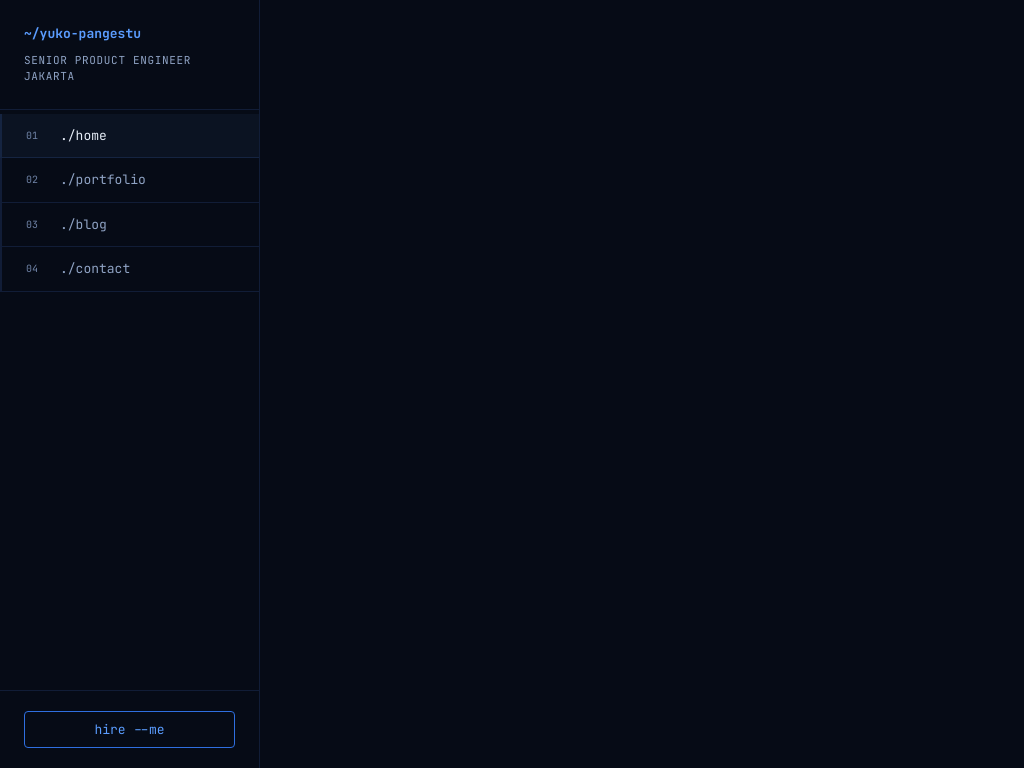
Test: SidebarComponent › opens the contact ID card popup when ./contact is clicked
The width and height of the screenshot is (1024, 768).
Click the text "./contact" at (95, 268), box [60,260,130,277]
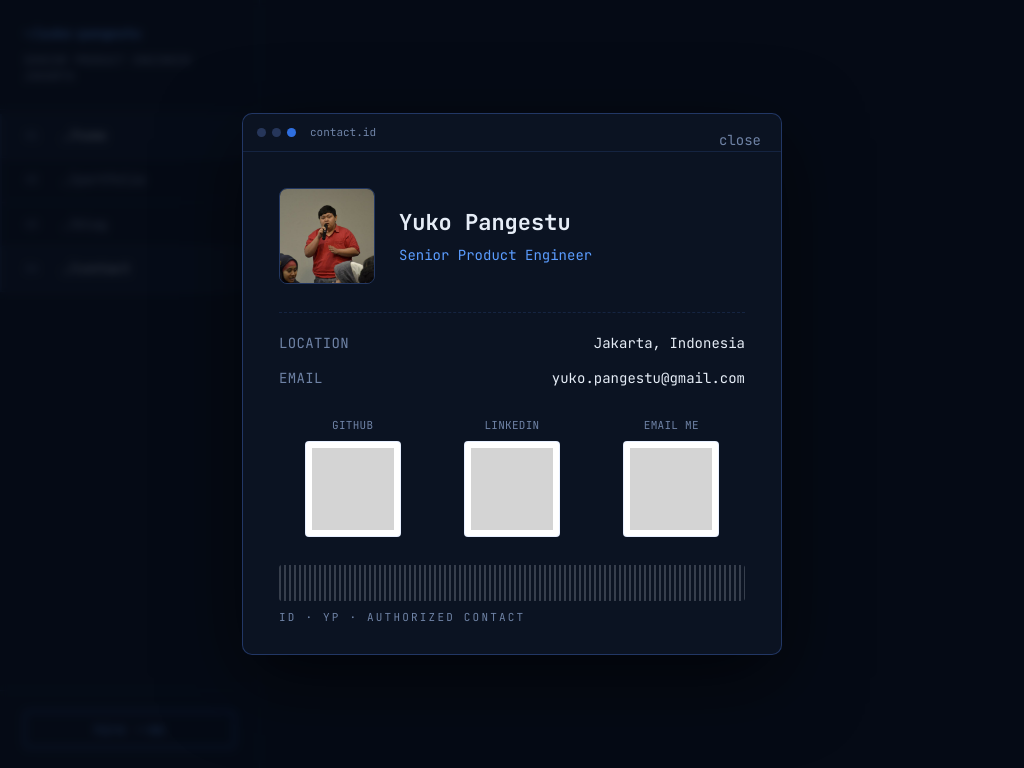
Now the dialog named "Contact card" is shown, box [242,113,782,655]
Now the link "yuko.pangestu@gmail.com" is shown, box [552,368,745,389]
